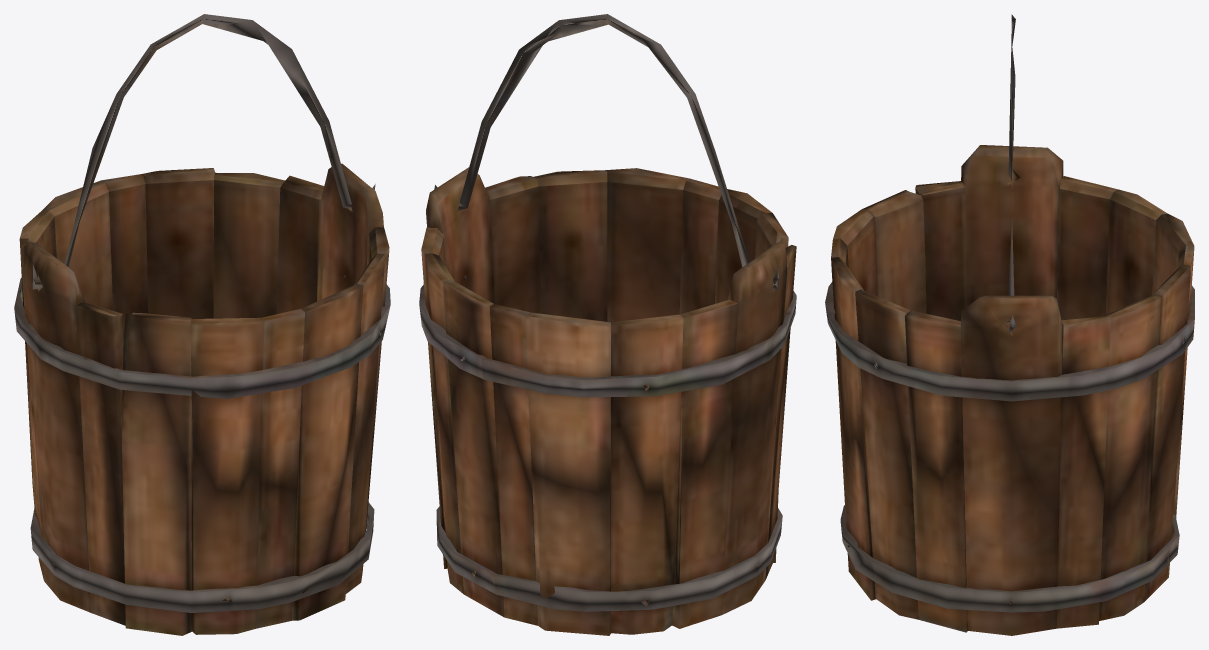
The model's file is bucket-wooden.lite.b1b6f92e.glb.
3 views of the same model, side by side, from view 1: azimuth 30°, elevation 25°; view 2: azimuth 150°, elevation 25°; view 3: azimuth 270°, elevation 25° (orthographic).
Parts seen in each view (by area): view 1: model; view 2: model; view 3: model.
Boxes of the visible parts, <box> form: model: <box>14,14,390,635</box>; model: <box>419,14,796,635</box>; model: <box>825,14,1194,635</box>.
Bounding box in the file's own units: 0.3579 × 0.5493 × 0.338.
Materials: 1 (1 with a texture image).
